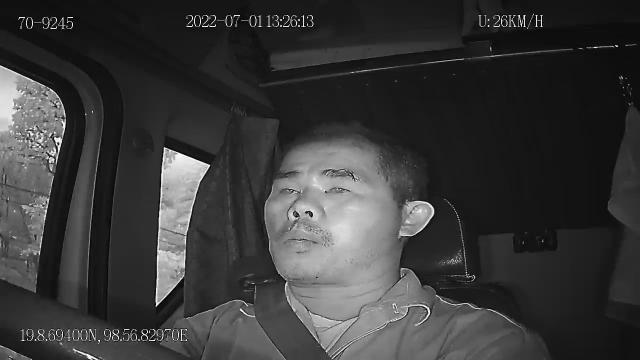SafeDriving: (316, 156, 364, 190), (317, 166, 360, 200), (318, 175, 358, 202), (270, 176, 304, 204)
Seatbelt: (247, 280, 336, 360)
